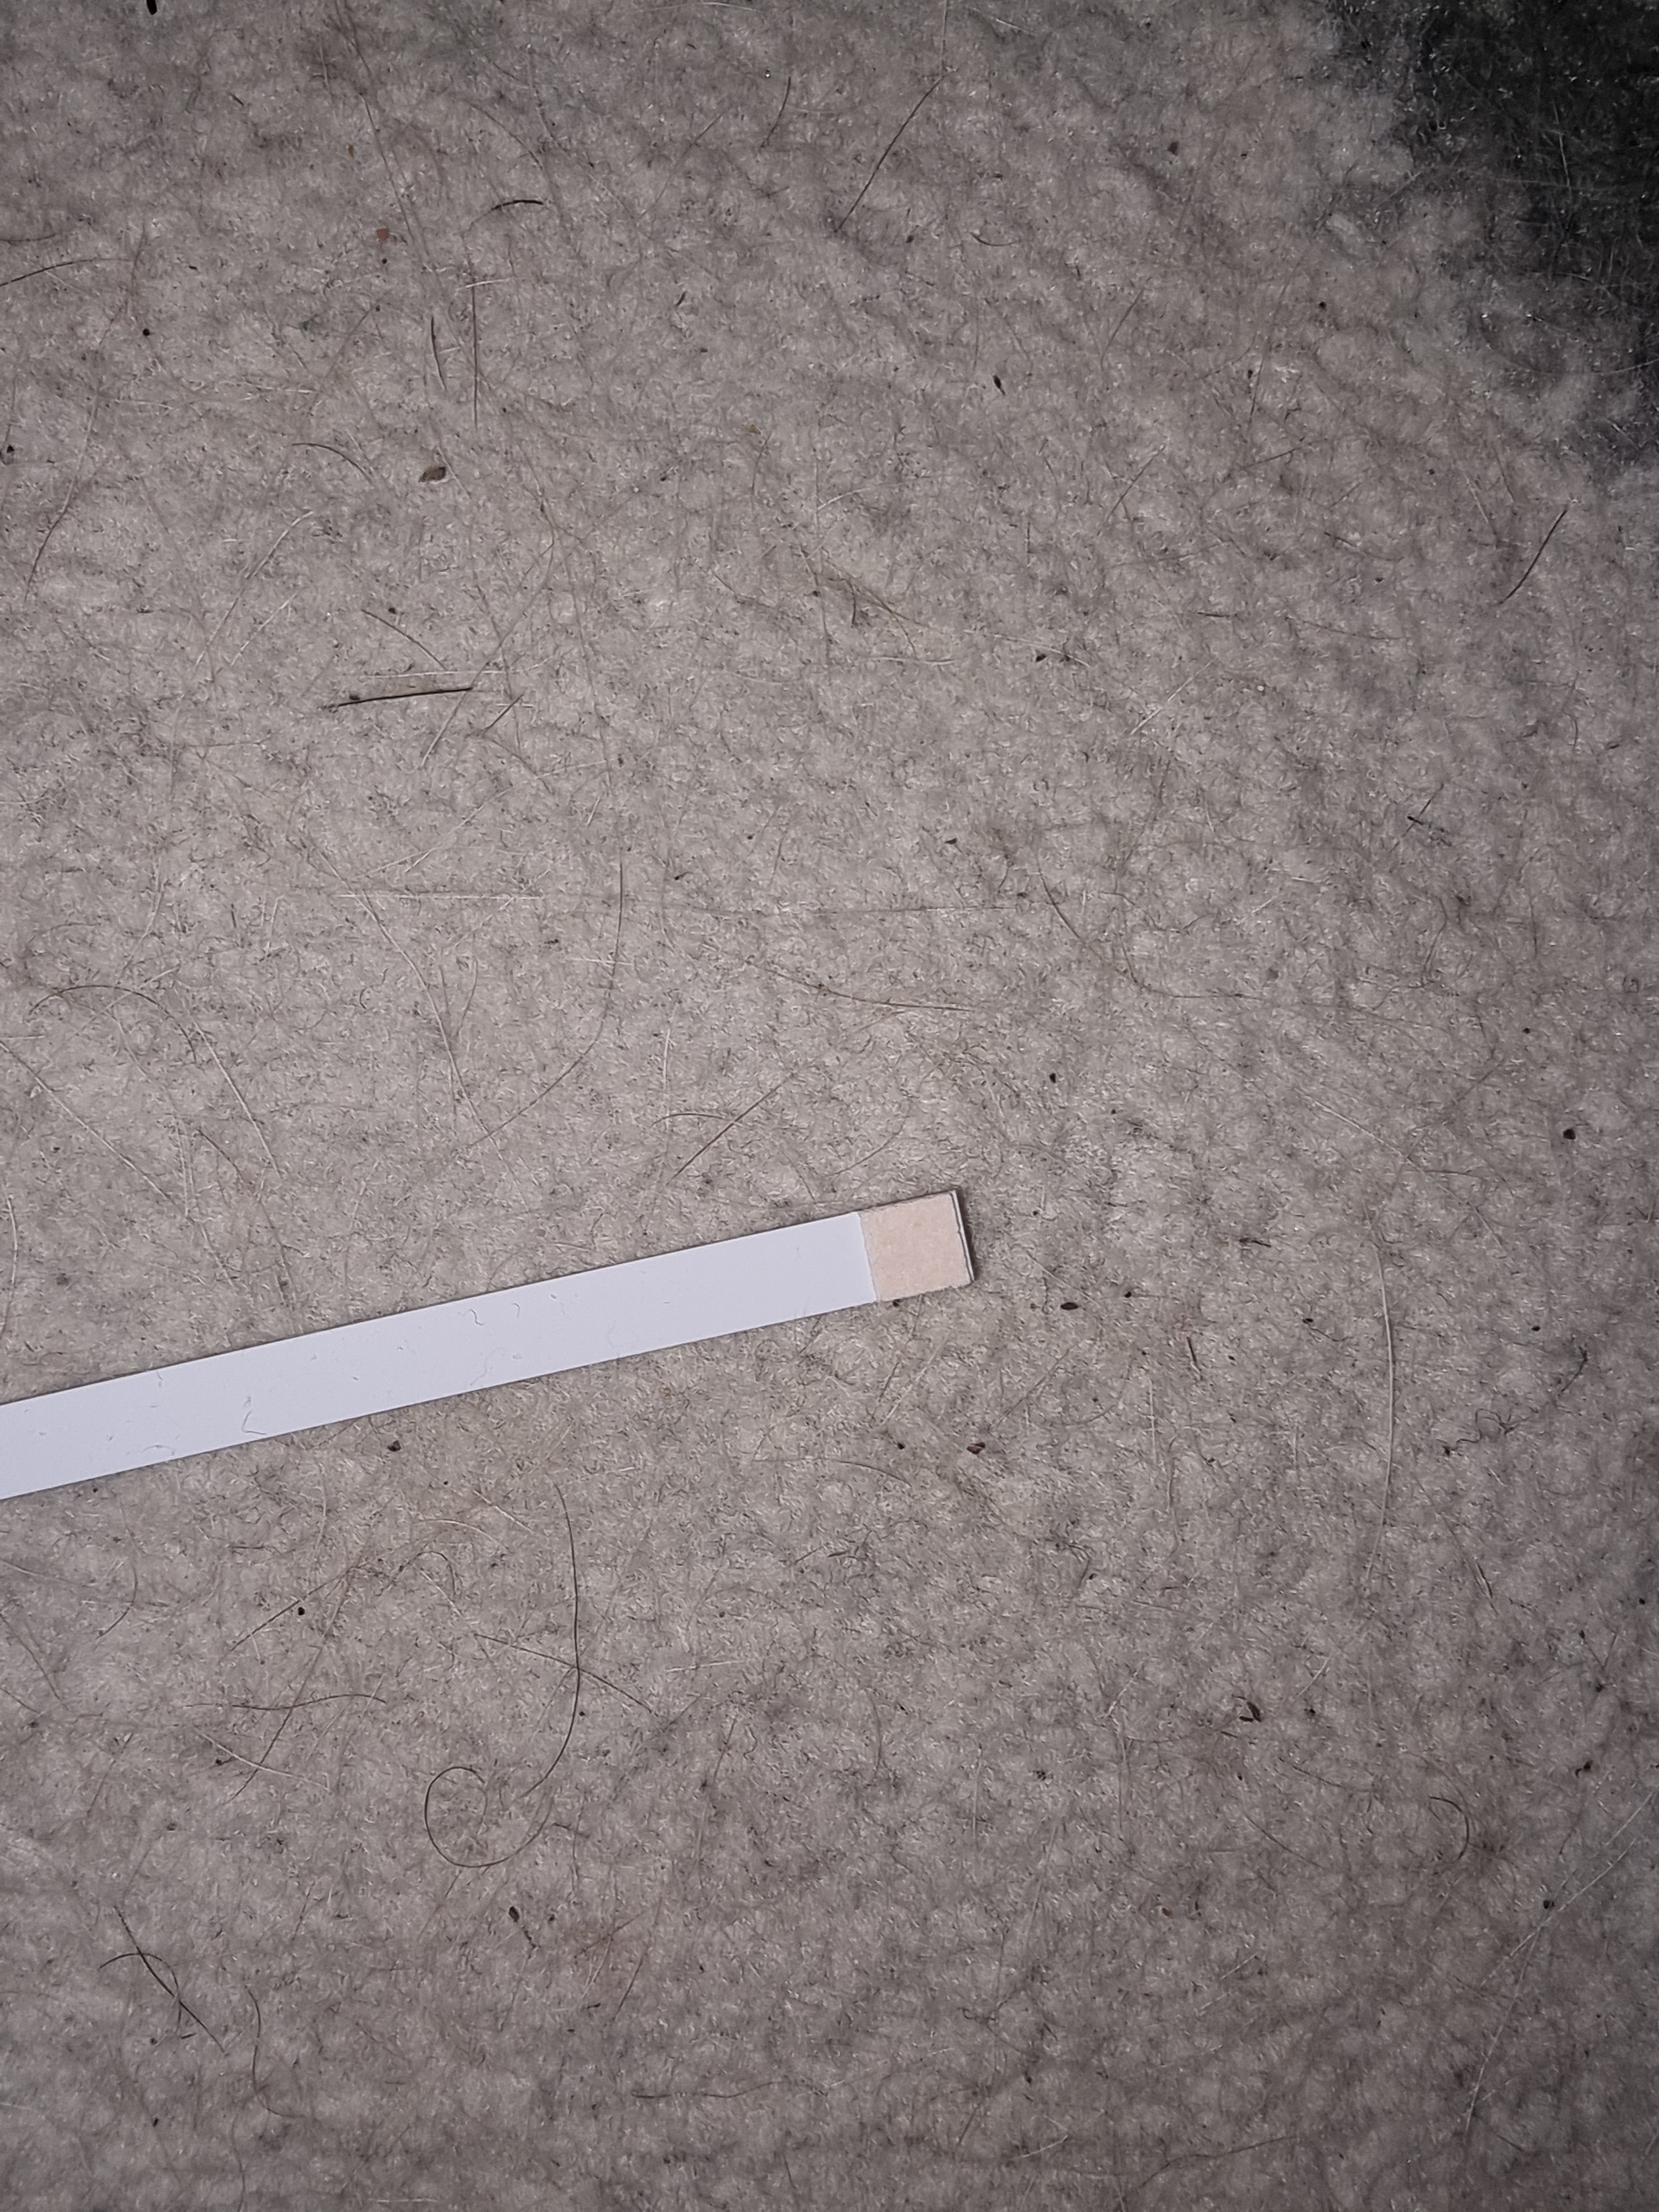keto-tip: (852, 1188, 985, 1306)
